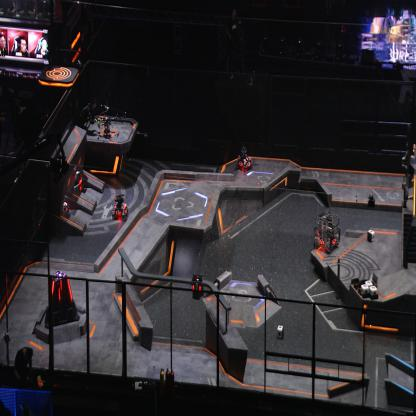car: (313, 209, 341, 253), (67, 166, 86, 194), (110, 192, 128, 220), (234, 145, 252, 171), (53, 191, 69, 218)
